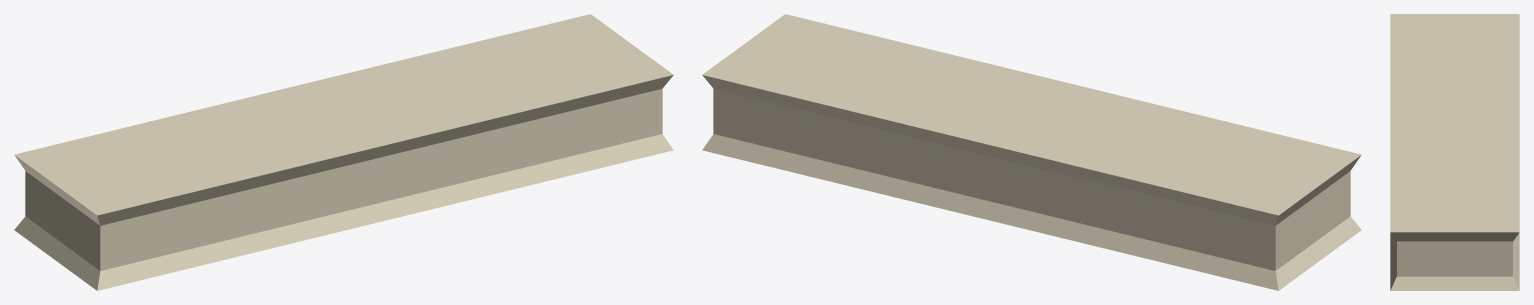
File: roman_roof_support_2_rect.fbx
3 views of the same model, side by side, from view 1: azimuth 30°, elevation 25°; view 2: azimuth 150°, elevation 25°; view 3: azimuth 270°, elevation 25° (orthographic). The views are drawn at different scales.
Parts seen in each view (by area): view 1: Cube.058; view 2: Cube.058; view 3: Cube.058.
Boxes of the visible parts, x1=… form: Cube.058: x1=14, y1=14, x2=673, y2=290; Cube.058: x1=702, y1=14, x2=1361, y2=290; Cube.058: x1=1390, y1=14, x2=1519, y2=290.
Size of the model in its own units: 8 by 1 by 2.
